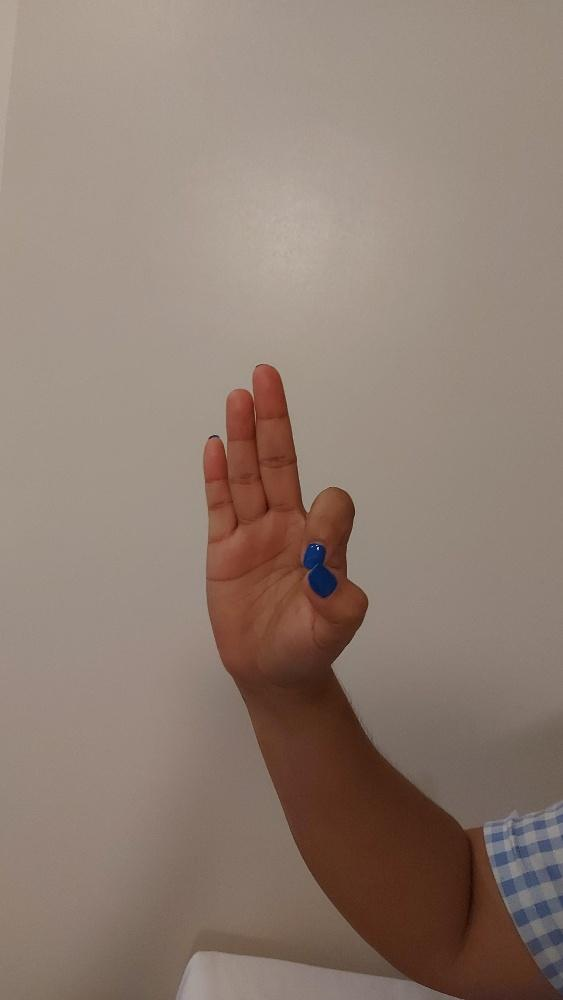f: (200, 362, 371, 686)
